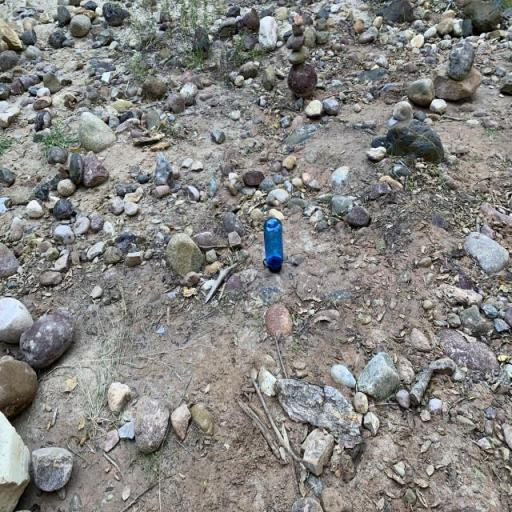bottle: (262, 218, 284, 274)
